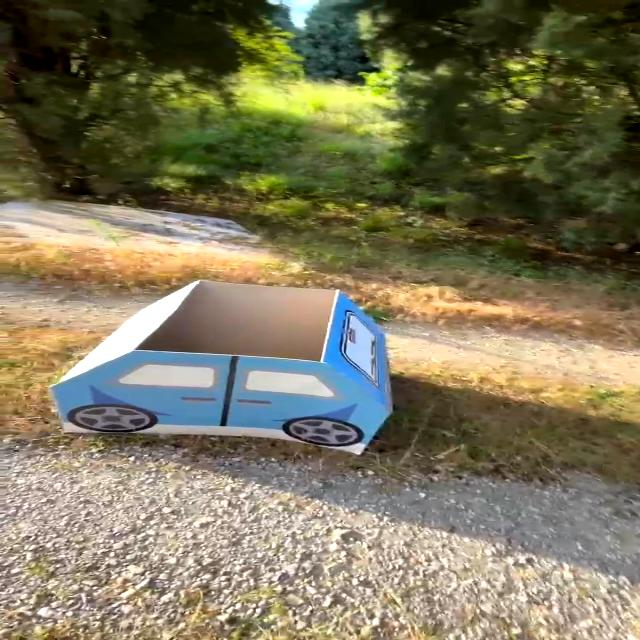blue_car: (0, 269, 453, 499)
